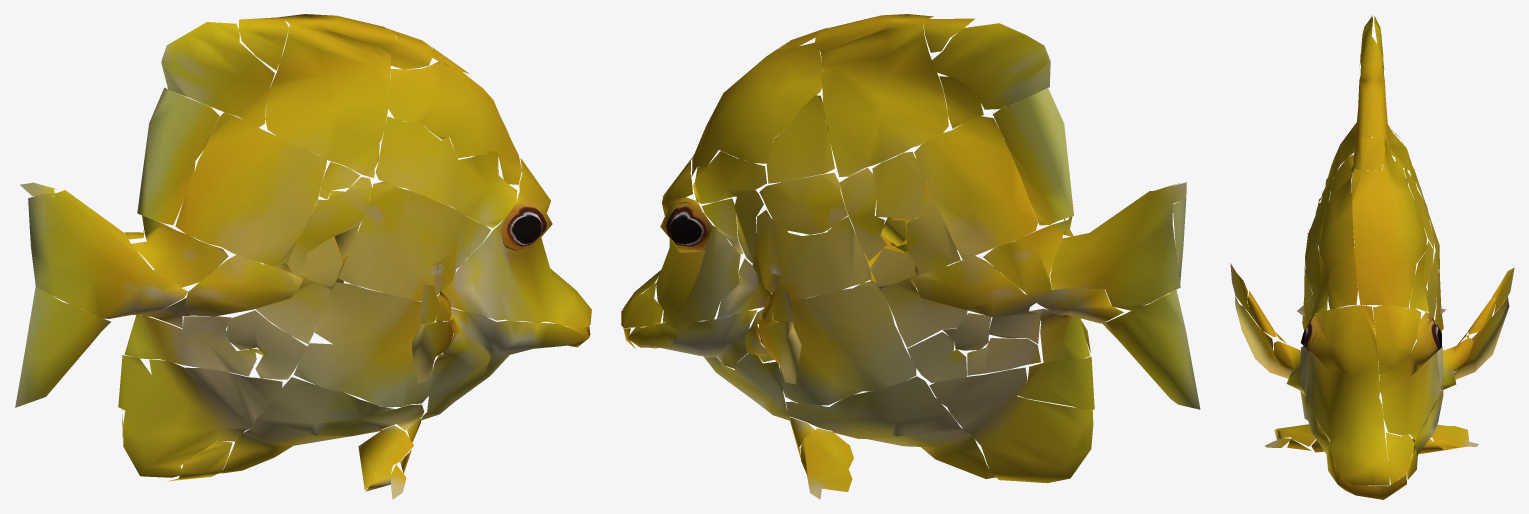
File: fish_yellow.glb
The picture shows the model from 3 angles, left to right: view 1: azimuth 30°, elevation 25°; view 2: azimuth 150°, elevation 25°; view 3: azimuth 270°, elevation 25°; orthographic projection. The views are drawn at different scales.
Parts seen in each view (by area): view 1: tripo_node_f20eca7d-c96a-4ddf-9856-ad656d41a6ed; view 2: tripo_node_f20eca7d-c96a-4ddf-9856-ad656d41a6ed; view 3: tripo_node_f20eca7d-c96a-4ddf-9856-ad656d41a6ed.
Part boxes in pixels (left/top/right/bottom): tripo_node_f20eca7d-c96a-4ddf-9856-ad656d41a6ed: left=15, top=14, right=591, bottom=499; tripo_node_f20eca7d-c96a-4ddf-9856-ad656d41a6ed: left=621, top=14, right=1200, bottom=499; tripo_node_f20eca7d-c96a-4ddf-9856-ad656d41a6ed: left=1230, top=15, right=1514, bottom=499.
Size of the model in its own units: 1 by 0.7671 by 0.5241.
Materials: 1 (1 with a texture image).
